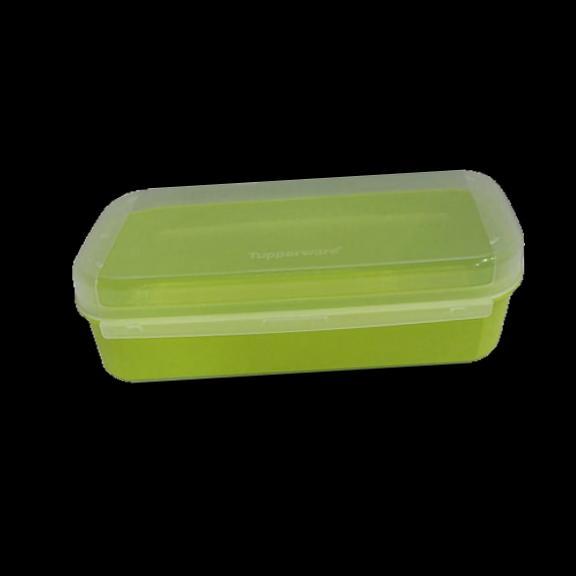Plastik: (72, 157, 536, 389)
